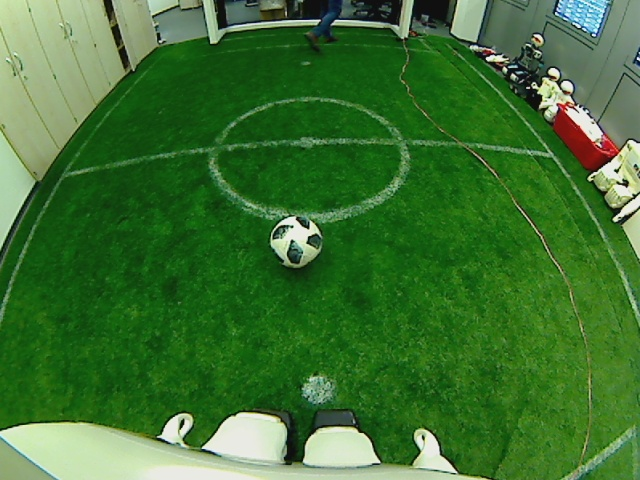ball: (267, 211, 323, 270)
